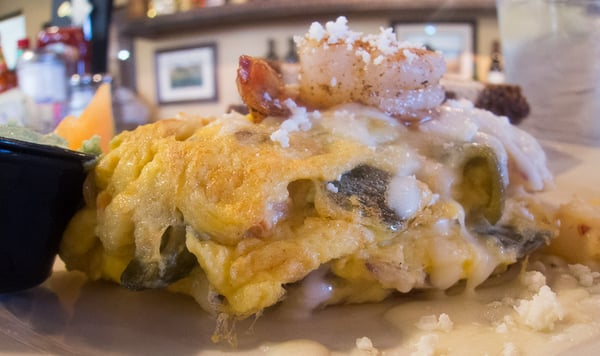soup: (61, 19, 591, 322)
